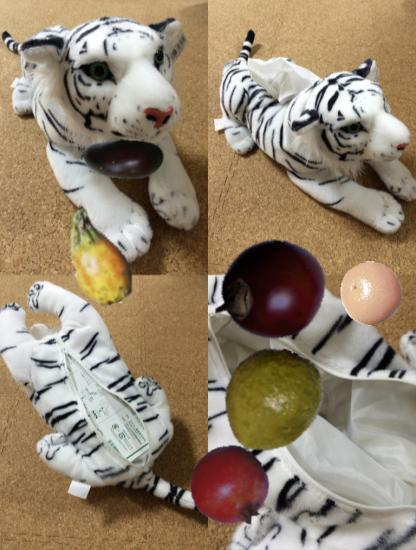Cactus: (42, 203, 149, 310)
Eggplant: (79, 116, 165, 202)
Grapefruit: (339, 261, 405, 327)
Guava: (218, 348, 326, 456)
Pomegranate: (189, 445, 274, 530)
Tamarillo: (216, 234, 326, 344)
